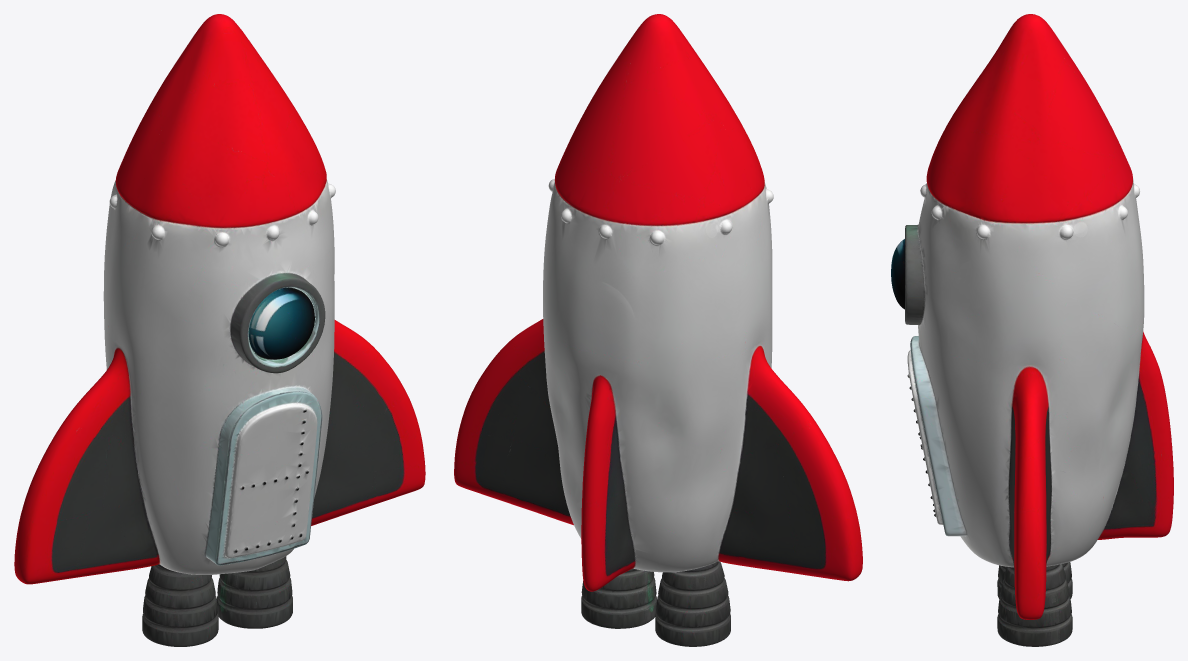
Rendered from rocket_final.glb.
3 renders of one model, left to right at view 1: azimuth 30°, elevation 25°; view 2: azimuth 150°, elevation 25°; view 3: azimuth 270°, elevation 25°, orthographic.
Size of the model in its own units: 1.32 by 1.9 by 0.8132.
Materials: 1 (1 with a texture image).
